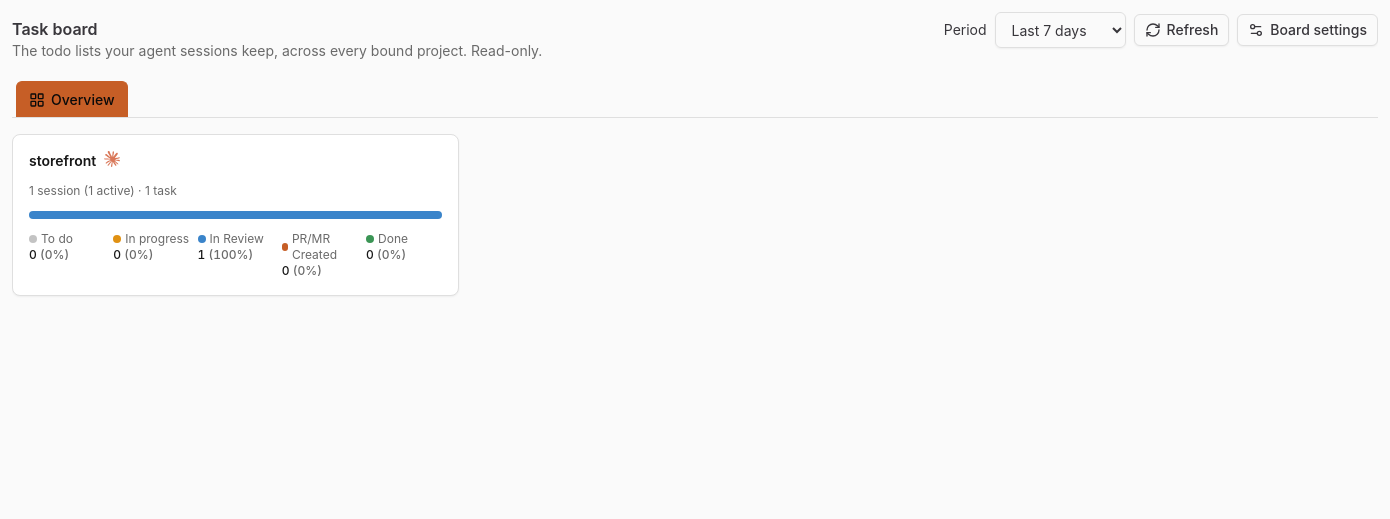
it: Project kanban › lists In Review in the per-step durations
This screenshot has width=1390, height=519.
Click the button "storefront" at (236, 215), box [12,134,459,296]
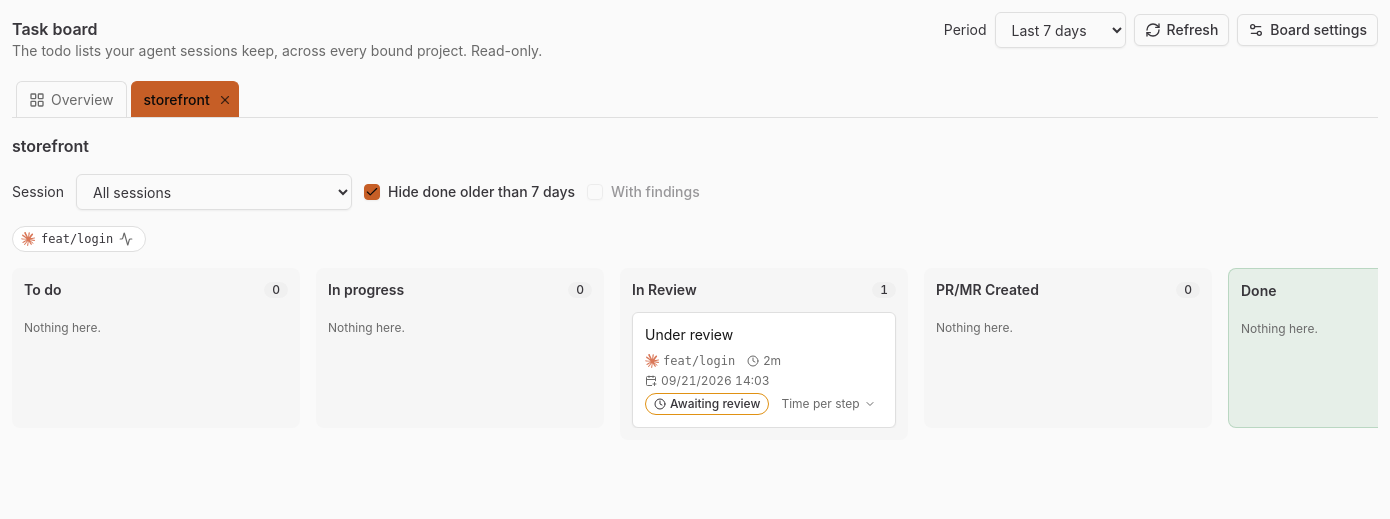
Result: the tab "storefront" is shown at [144,90,210,110]
Click the button with aria-label "time per step, under review" at (829, 404), box [781,396,876,412]
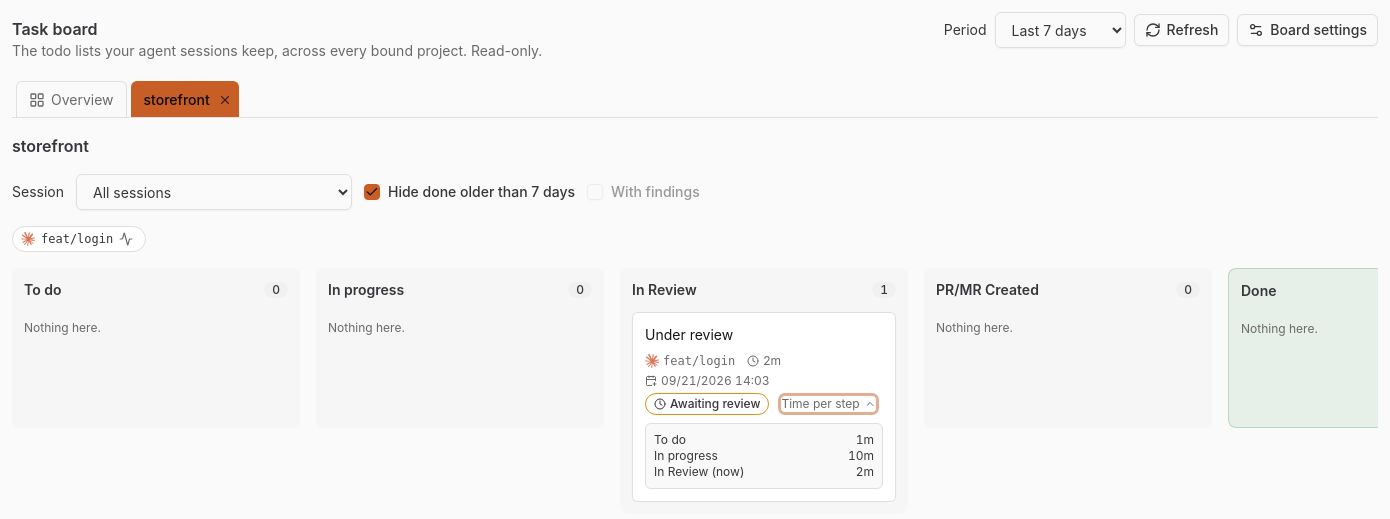
Result: the text "In progress" is shown at [654,448,718,464]
Result: the list item "2m" shows "In Review (now)" at [654,464,874,480]
